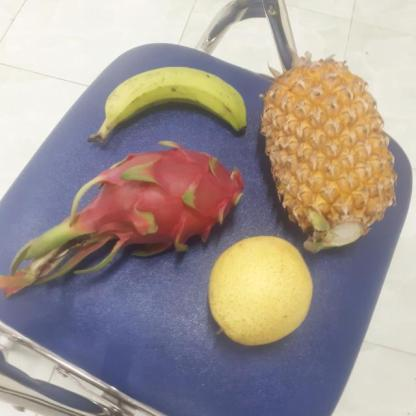banana: (98, 70, 254, 146)
pear: (199, 233, 315, 346)
pineapple: (263, 64, 395, 244)
pitaya: (78, 142, 252, 248)
